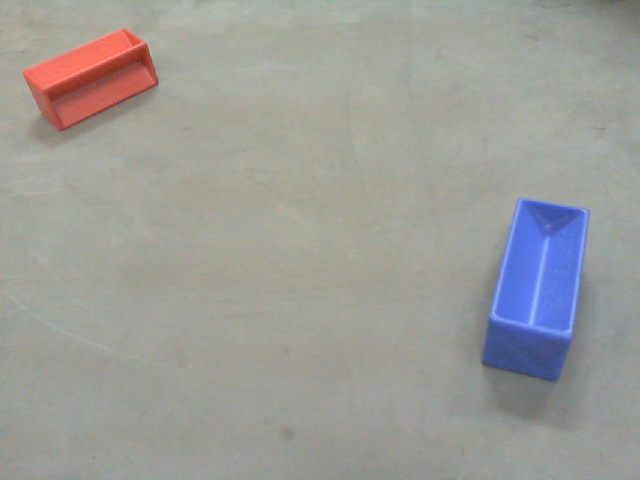BlueSample: (477, 192, 592, 385)
RedSample: (15, 26, 160, 135)
